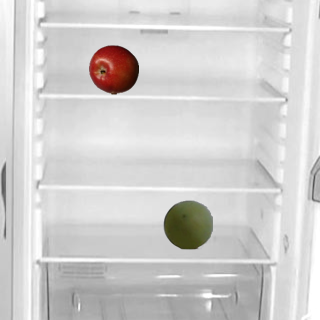Apple Braeburn: (88, 44, 138, 94)
Grape White 4: (162, 199, 212, 249)
